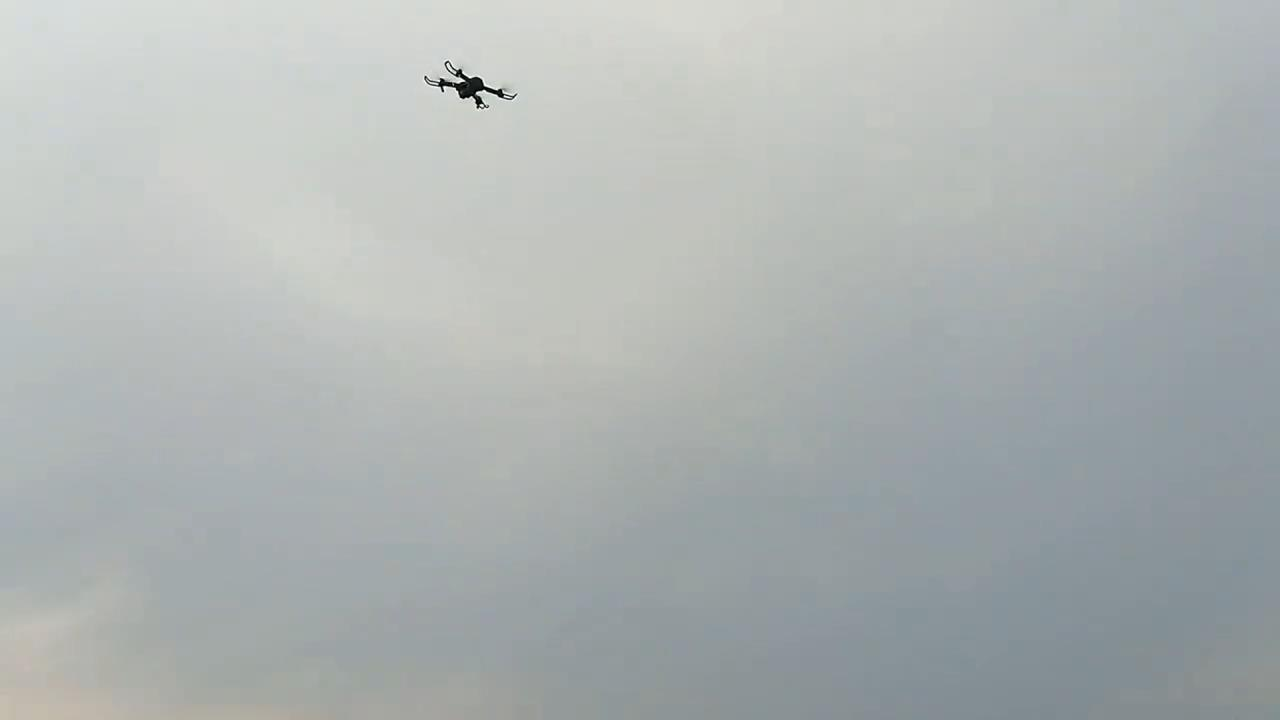Drone: (416, 52, 524, 120)
